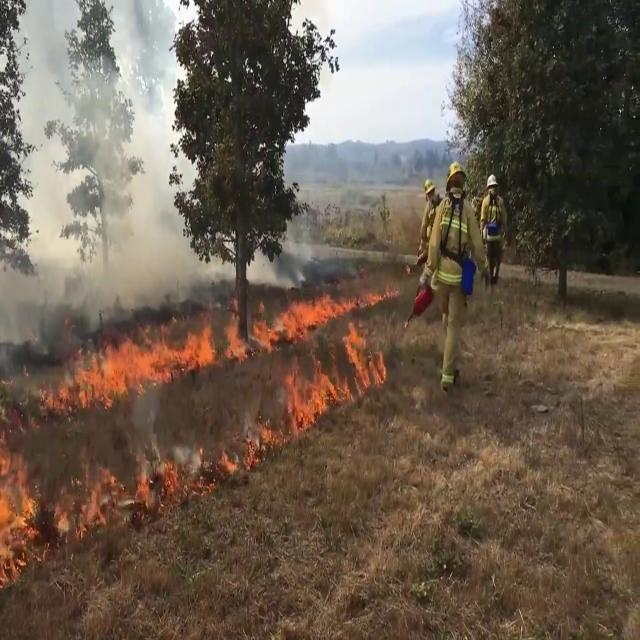Fire: (46, 312, 255, 402), (273, 338, 392, 436), (67, 458, 165, 542), (0, 436, 48, 588), (270, 280, 383, 334)
Smoke: (1, 5, 220, 332)
